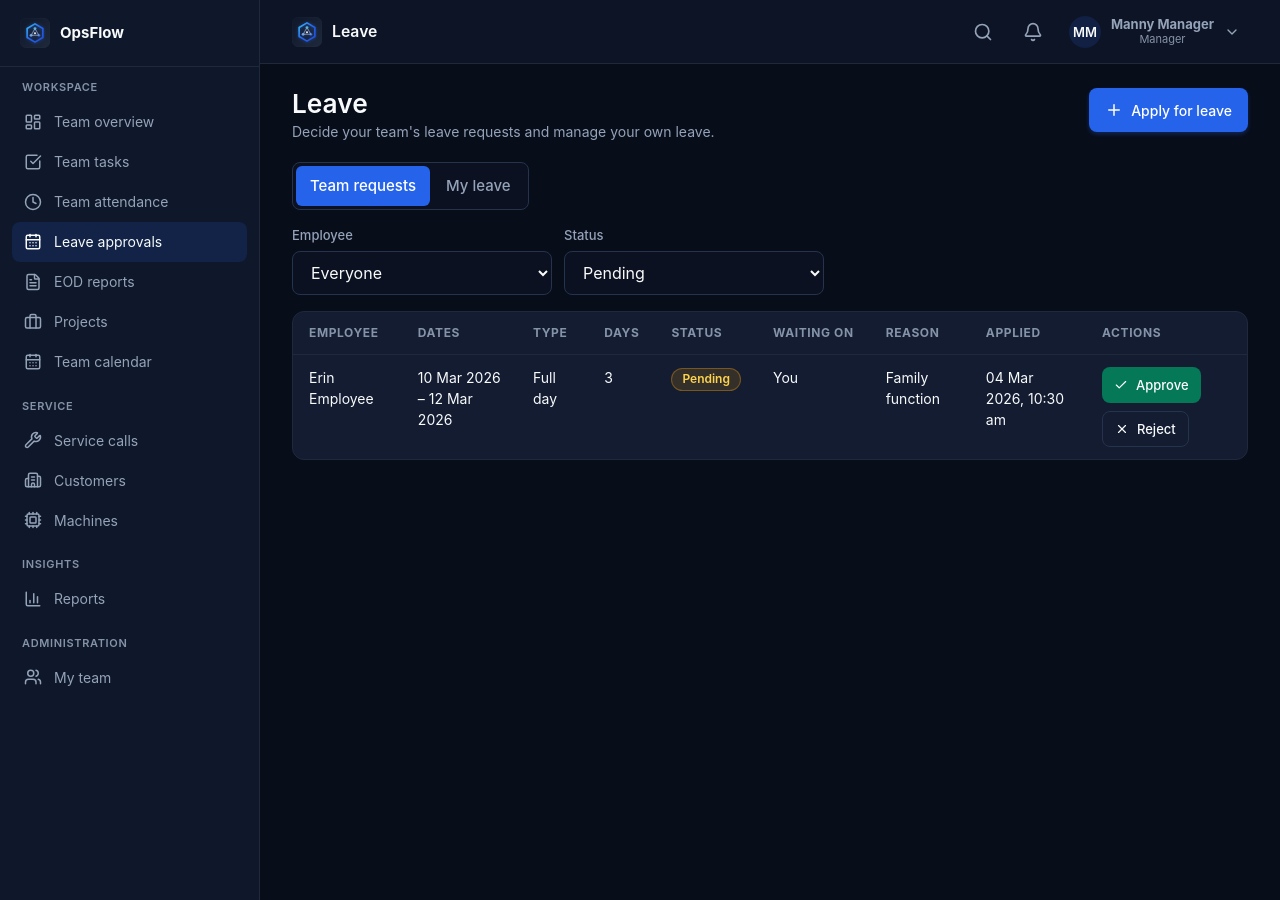
it: Leave for a manager › approves with an optional note
Click the button with aria-label "Approve leave for Erin Employee" at (1151, 385), box [1102, 367, 1200, 403]
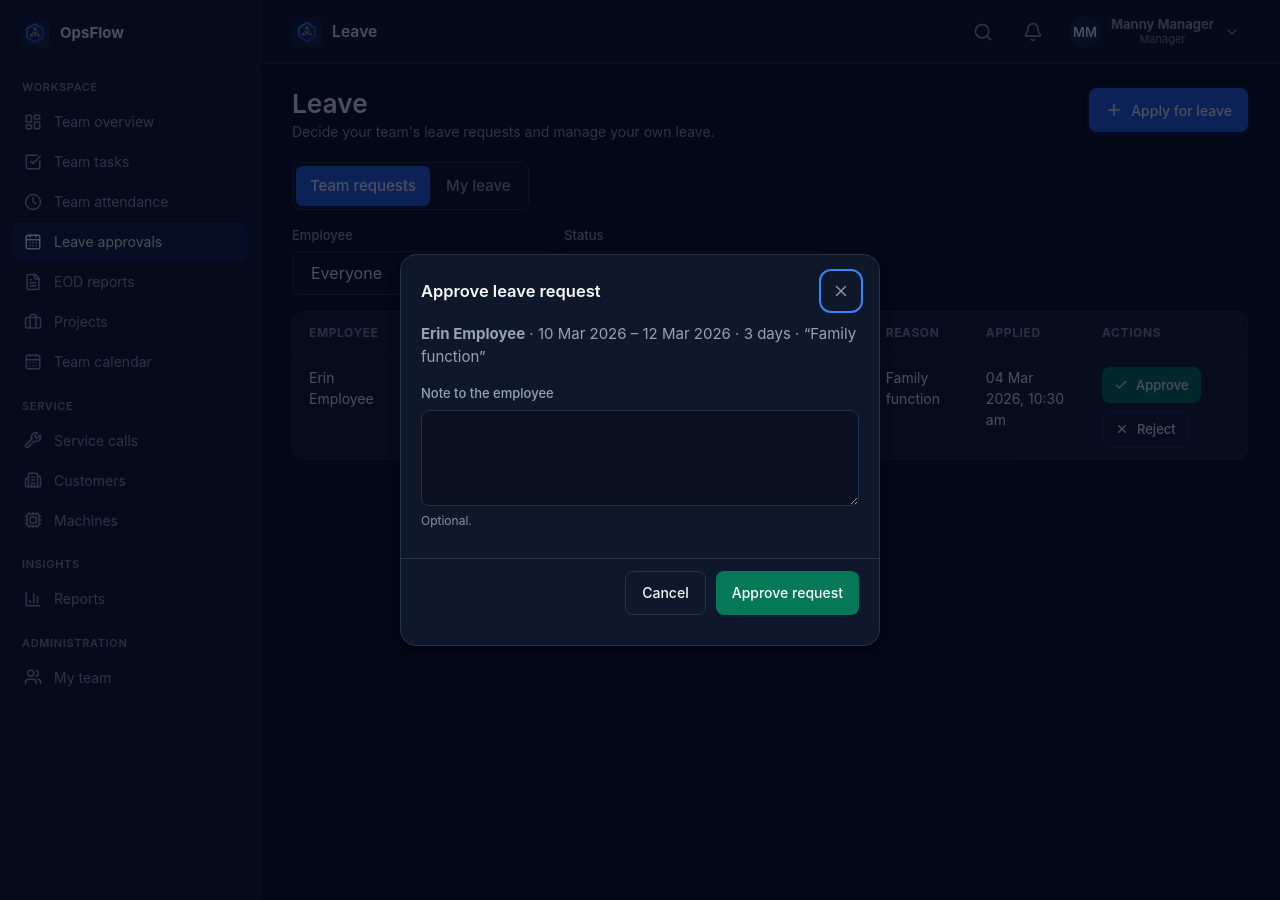
Check: the text "3 days" is shown, box [421, 323, 859, 368]
Type "Enjoy" into the text box labelled "Note to the employee" at (640, 458), box [421, 410, 859, 506]
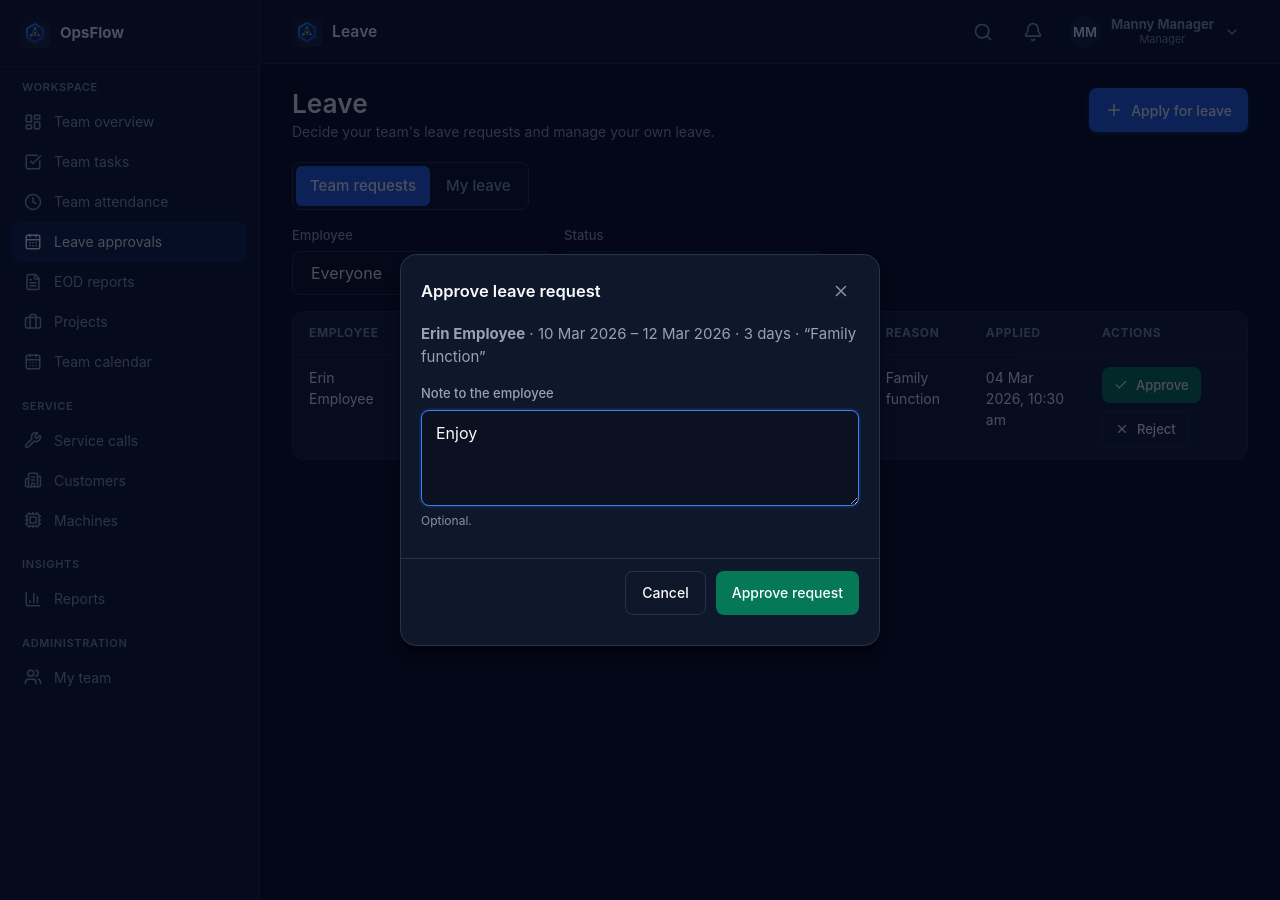
Click the button "Approve request" at (787, 593), box [716, 571, 859, 615]
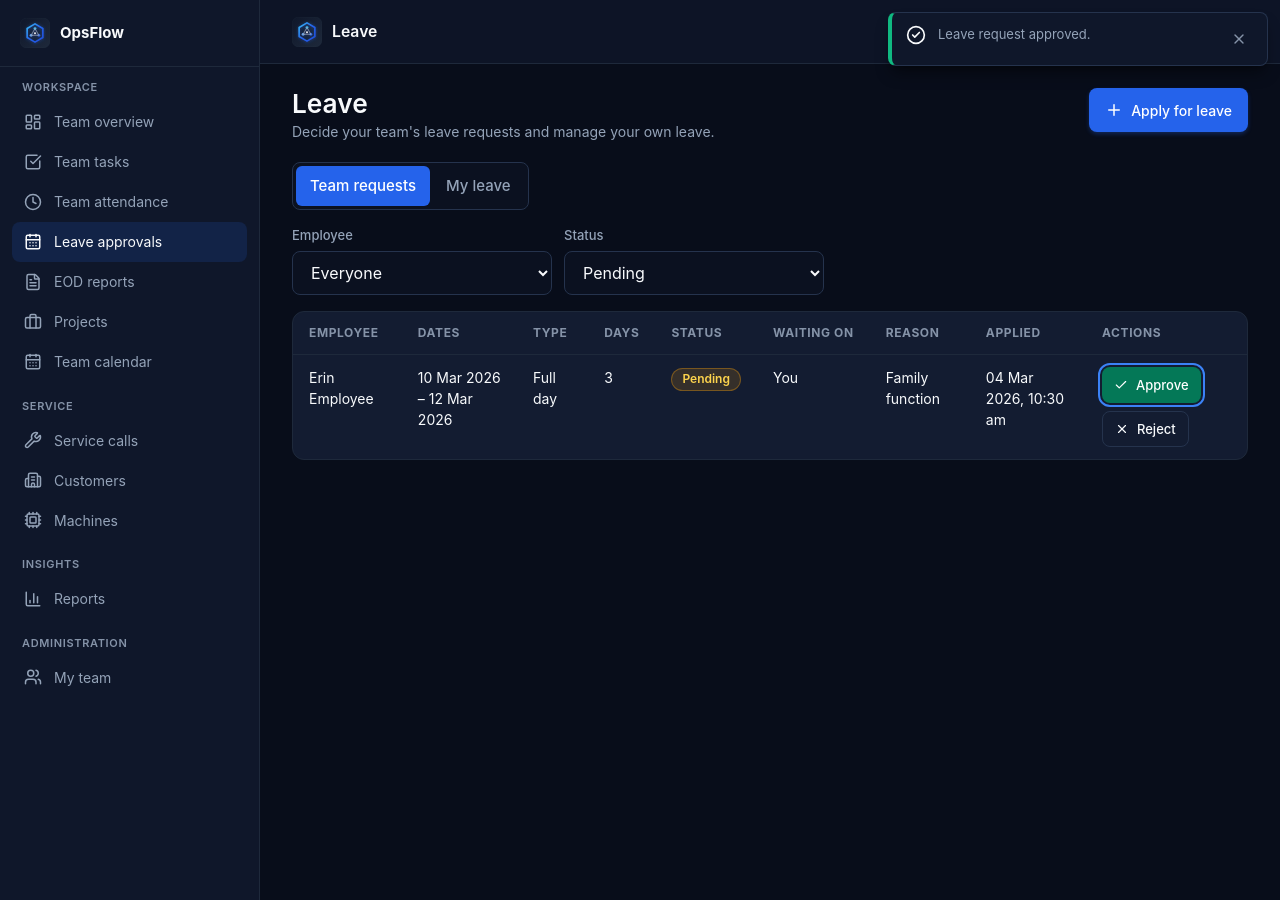
Check: the text "Leave request approved." is shown, box [938, 26, 1090, 42]
